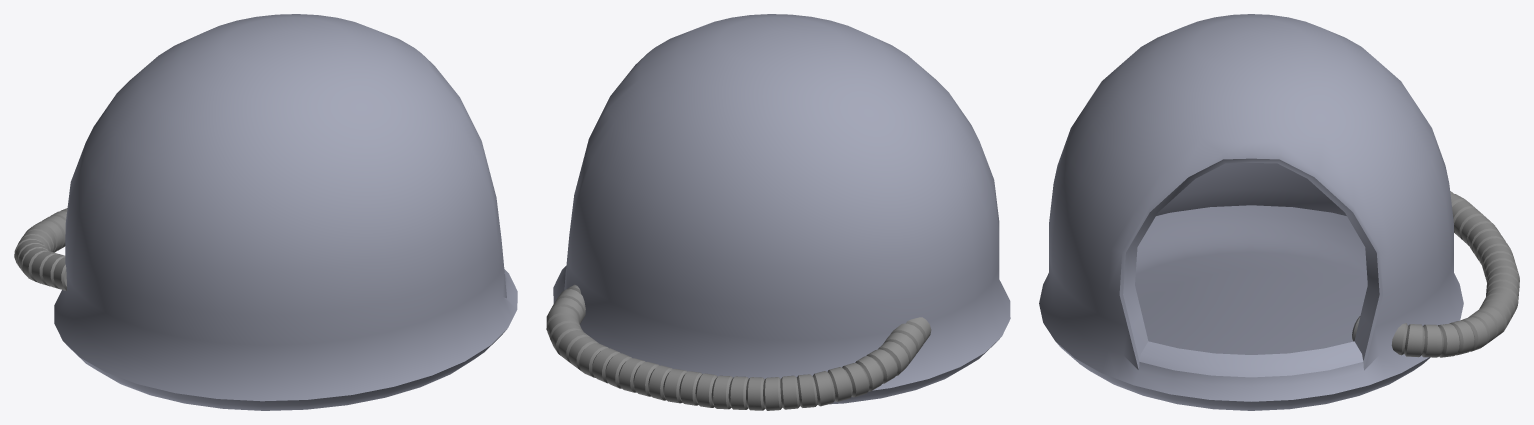
The model's file is AstroHelmet.glb.
The picture shows the model from 3 angles, left to right: view 1: azimuth 30°, elevation 25°; view 2: azimuth 150°, elevation 25°; view 3: azimuth 270°, elevation 25°; orthographic projection. The views are drawn at different scales.
Visible parts, largest first — view 1: Cylinder, Cylinder.002; view 2: Cylinder, Cylinder.002; view 3: Cylinder, Cylinder.003, Cylinder.002.
Part boxes in pixels (x1,y1,x2,y2): Cylinder: [54, 14, 517, 410]; Cylinder.002: [14, 208, 67, 290]; Cylinder: [553, 14, 1010, 404]; Cylinder.002: [546, 284, 931, 410]; Cylinder: [1039, 14, 1463, 410]; Cylinder.003: [1135, 163, 1367, 354]; Cylinder.002: [1352, 191, 1519, 357].
Size of the model in its own units: 2.1 by 1.43 by 2.17.
